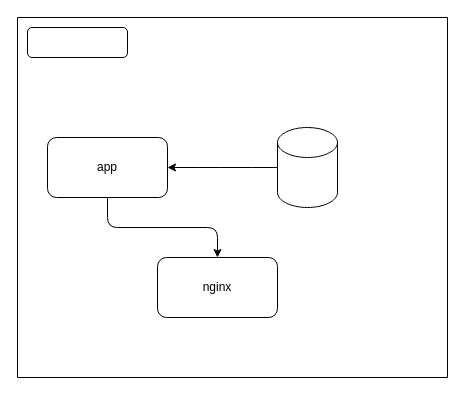
The diagram is 465 pixels wide and 395 high, and some of its shapes have lost their labels. The shapes that lost their labels are listed below. From the top down, each one's box as (x1, y1, x2, y2) in pixels, then its label:
(26, 26, 128, 58): app-network
(276, 126, 338, 208): db
